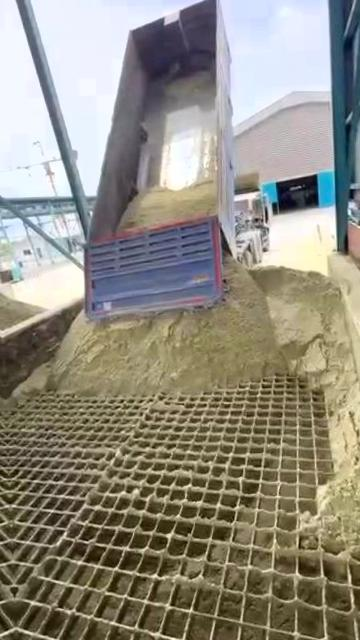sand: (50, 258, 360, 554), (119, 70, 217, 228), (11, 365, 48, 403), (2, 294, 42, 329)
